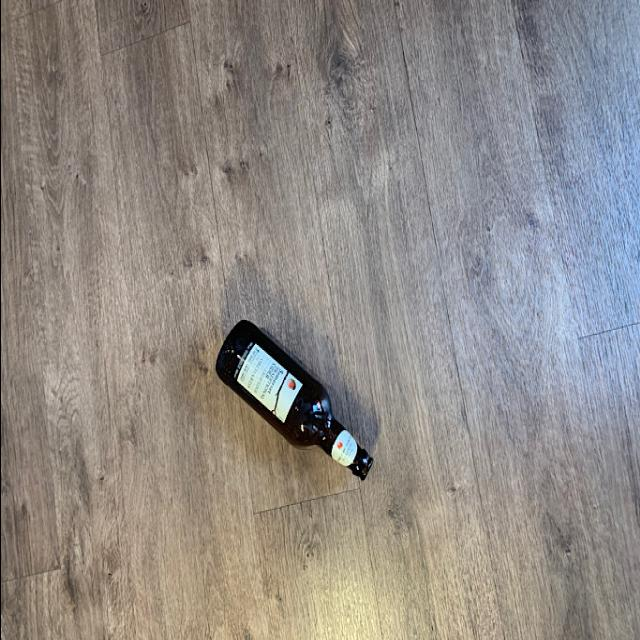litter: (214, 315, 374, 481)
